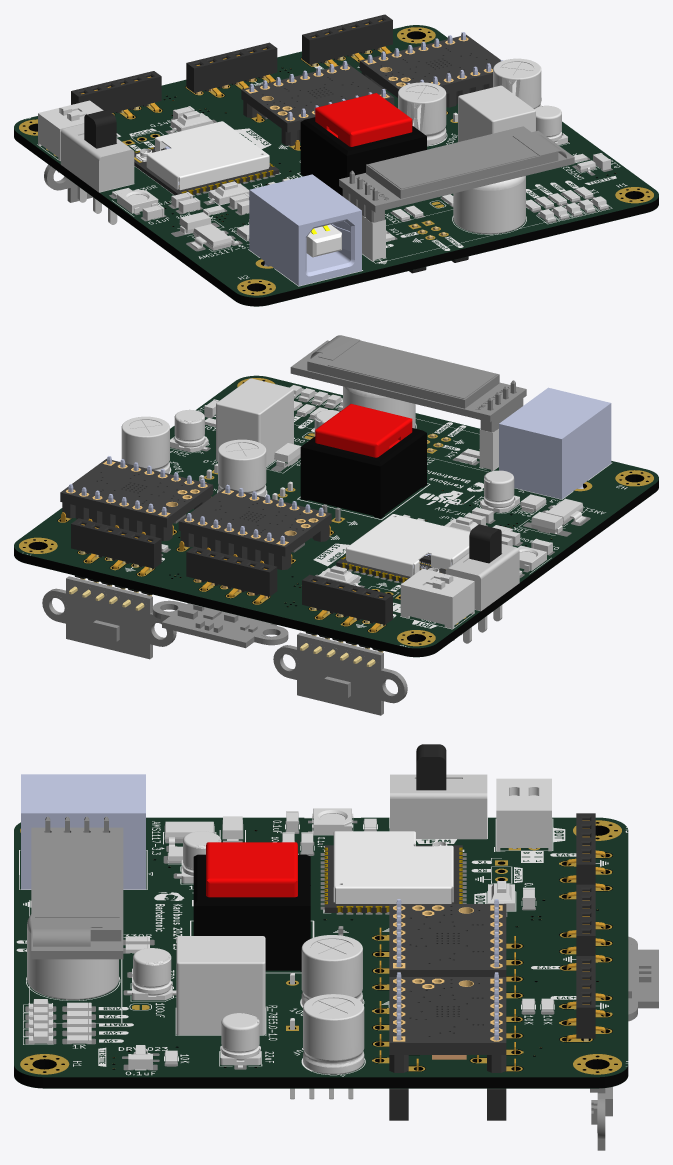
Rendered from MainBoard-PAMI-2025.glb.
3 views of the same model, one above another, from view 1: azimuth 30°, elevation 25°; view 2: azimuth 150°, elevation 25°; view 3: azimuth 270°, elevation 25° (orthographic). The views are drawn at different scales.
Visible parts, largest first — view 1: Compound (×27), Face (×4); view 2: Compound (×29), Face (×4); view 3: Compound (×29), Face (×4).
Part boxes in pixels (left/top/right/bottom): Compound (×27): left=14, top=14, right=658, bottom=306; Face (×4): left=14, top=25, right=658, bottom=297; Compound (×29): left=14, top=335, right=658, bottom=715; Face (×4): left=14, top=375, right=658, bottom=648; Compound (×29): left=14, top=744, right=658, bottom=1150; Face (×4): left=14, top=817, right=628, bottom=1077.
Bounding box in the file's own units: 80.02 × 27.75 × 84.
